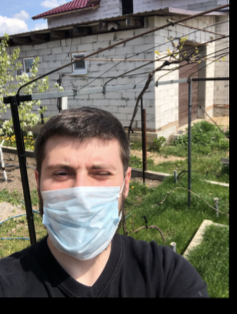with_mask: (37, 149, 125, 261)
